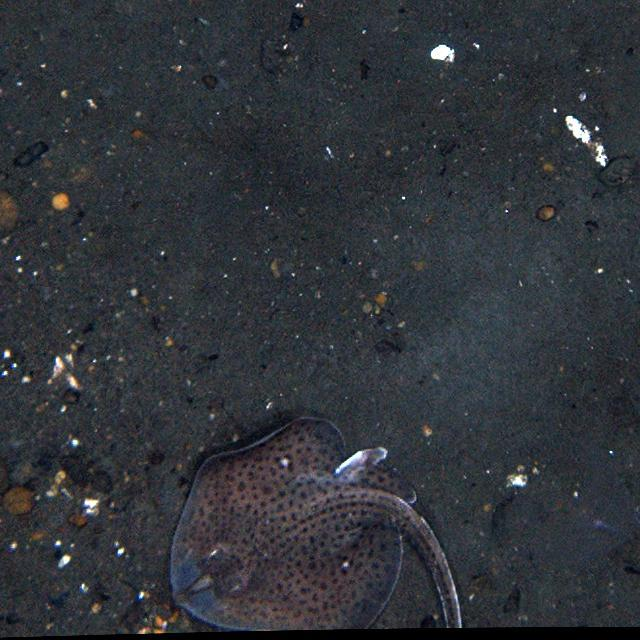skate: (163, 416, 480, 628)
